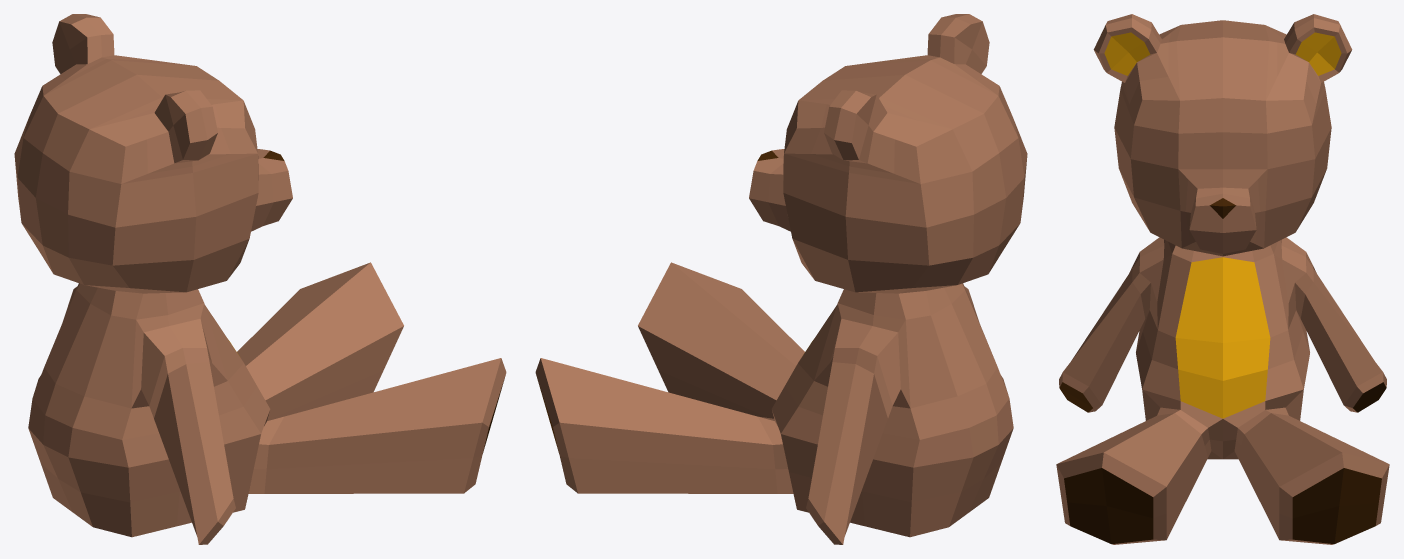
Rendered from Light_Bear_Model.fbx.
3 renders of one model, left to right at view 1: azimuth 30°, elevation 25°; view 2: azimuth 150°, elevation 25°; view 3: azimuth 270°, elevation 25°, orthographic. The views are drawn at different scales.
Visible parts, largest first — view 1: 05_TeddyBear; view 2: 05_TeddyBear; view 3: 05_TeddyBear.
Part boxes in pixels (<box>): 05_TeddyBear: <box>14,14,506,544</box>; 05_TeddyBear: <box>535,14,1027,544</box>; 05_TeddyBear: <box>1056,14,1389,544</box>.
Bounding box in the file's own units: 51.4 × 70.06 × 65.79.
